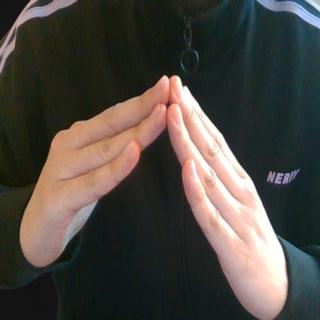HOME: (19, 71, 288, 320)
